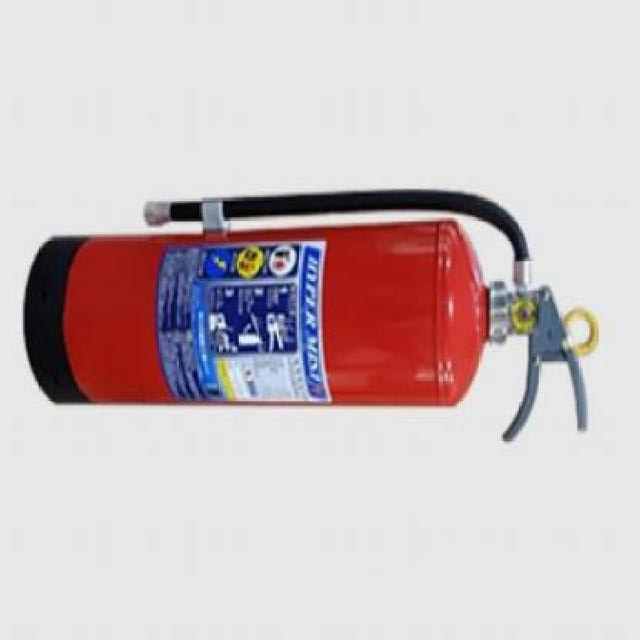fire extinguisher: (22, 186, 601, 442)
